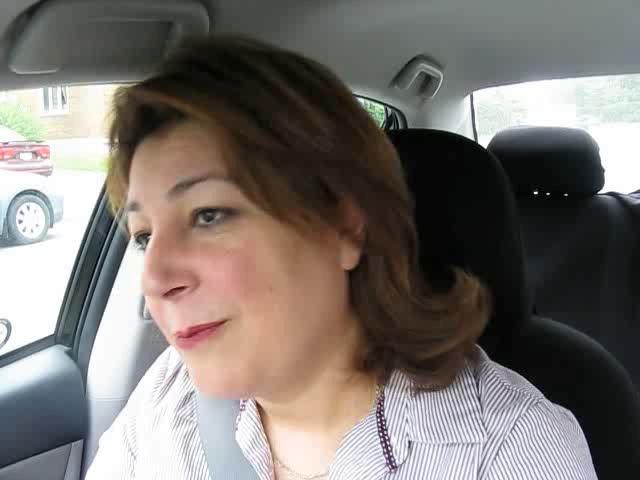close_eyeL: (110, 215, 161, 264)
close_eyeR: (172, 193, 256, 242)
no_yawn: (153, 299, 250, 374)
